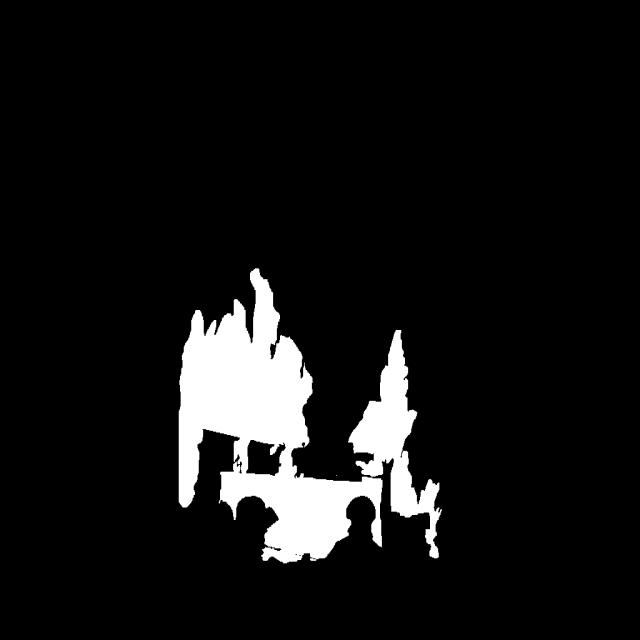fire: (172, 238, 443, 611)
